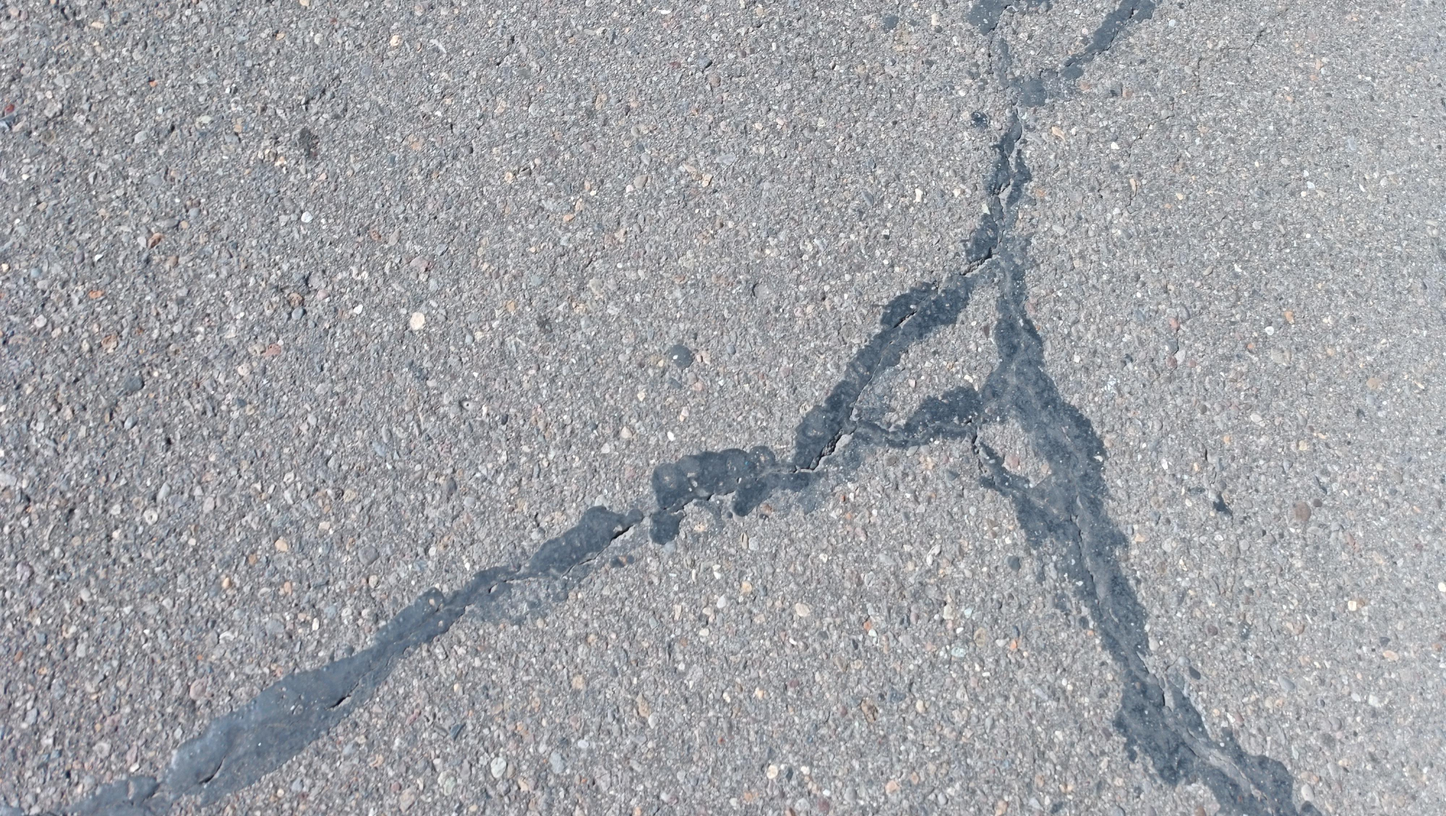GRIETA: (762, 358, 883, 474)
